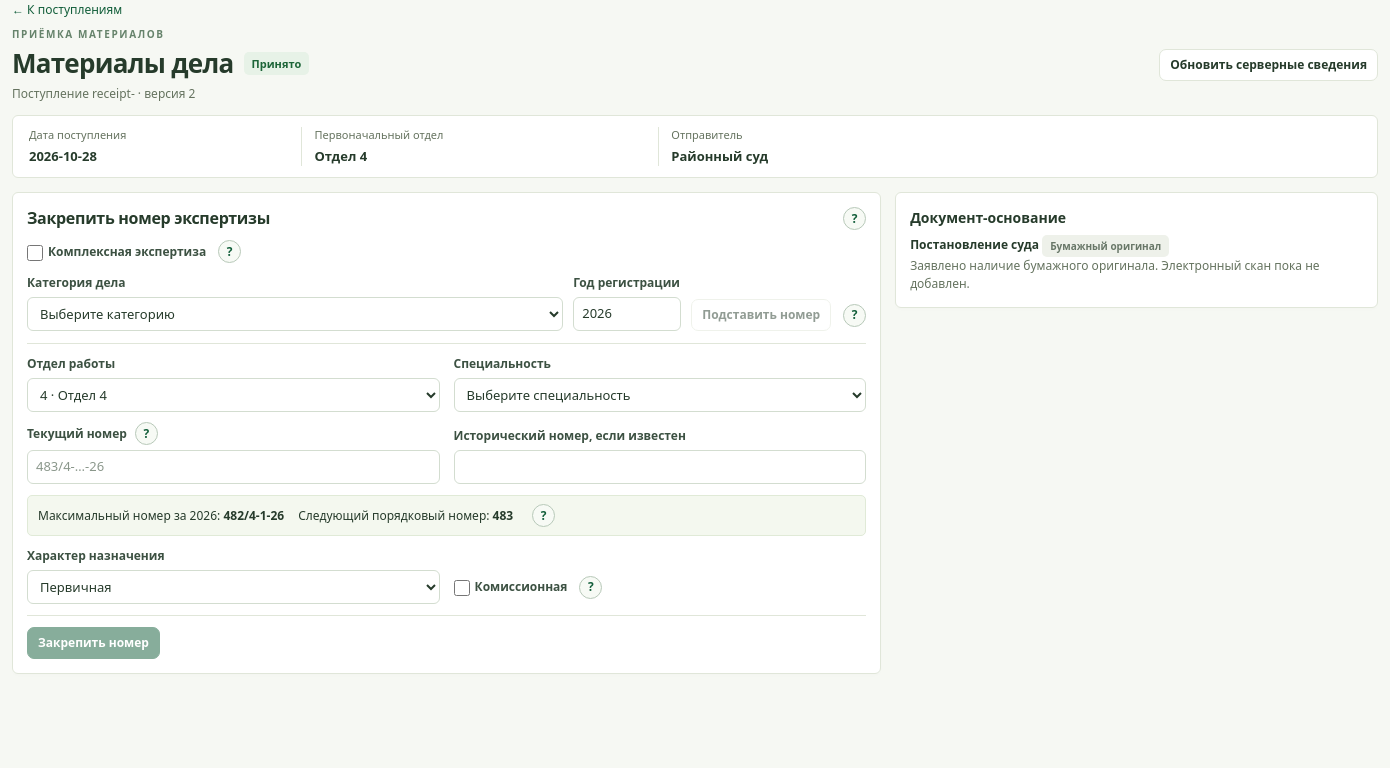
Scenario: out-of-sequence number confirmation › checks a fresh maximum instead of trusting the earlier hint
Select "18.1 · Исследование записи" in the dropdown named "specialty_id". click: (660, 395)
box: x1=454 y1=378 x2=866 y2=412
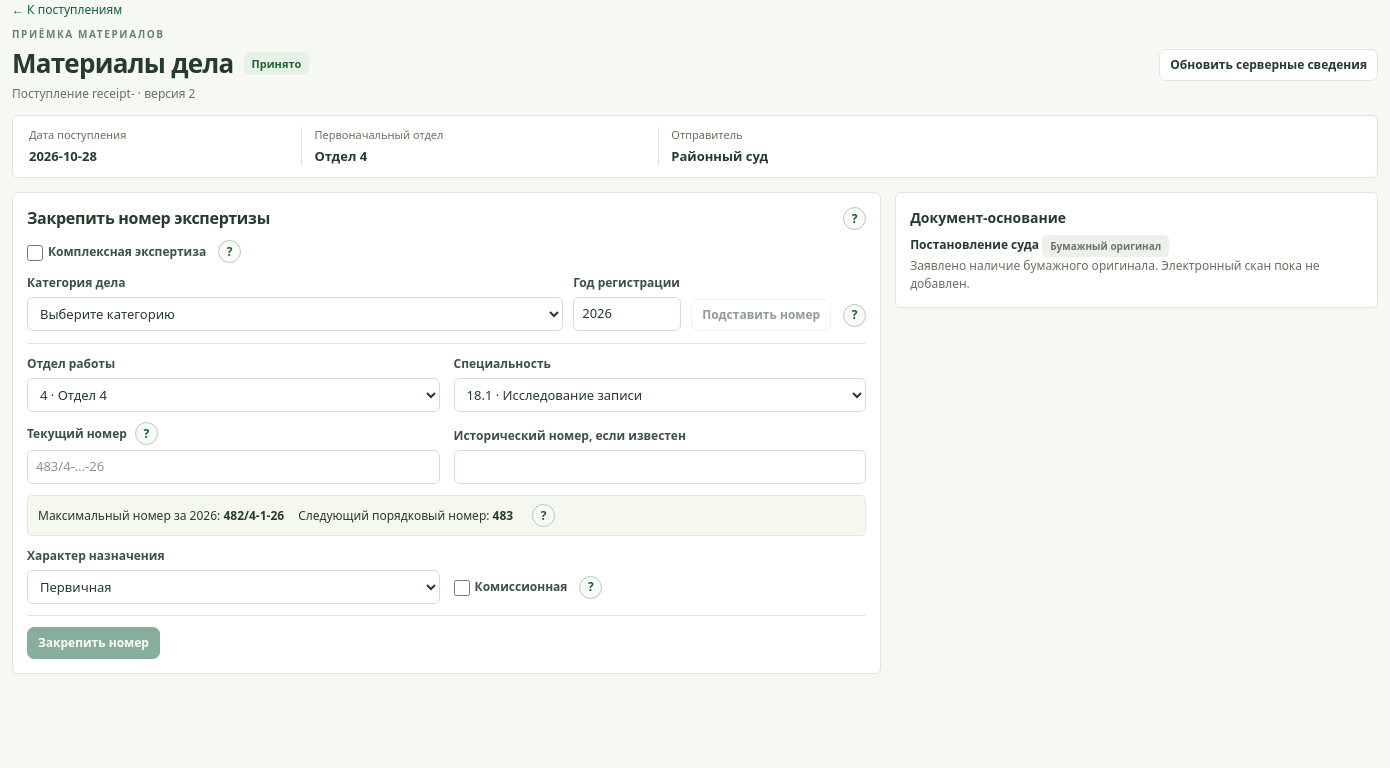
Type "483/4-1-26" into the field named "registration_number". click: (233, 467)
box: x1=27 y1=450 x2=440 y2=484
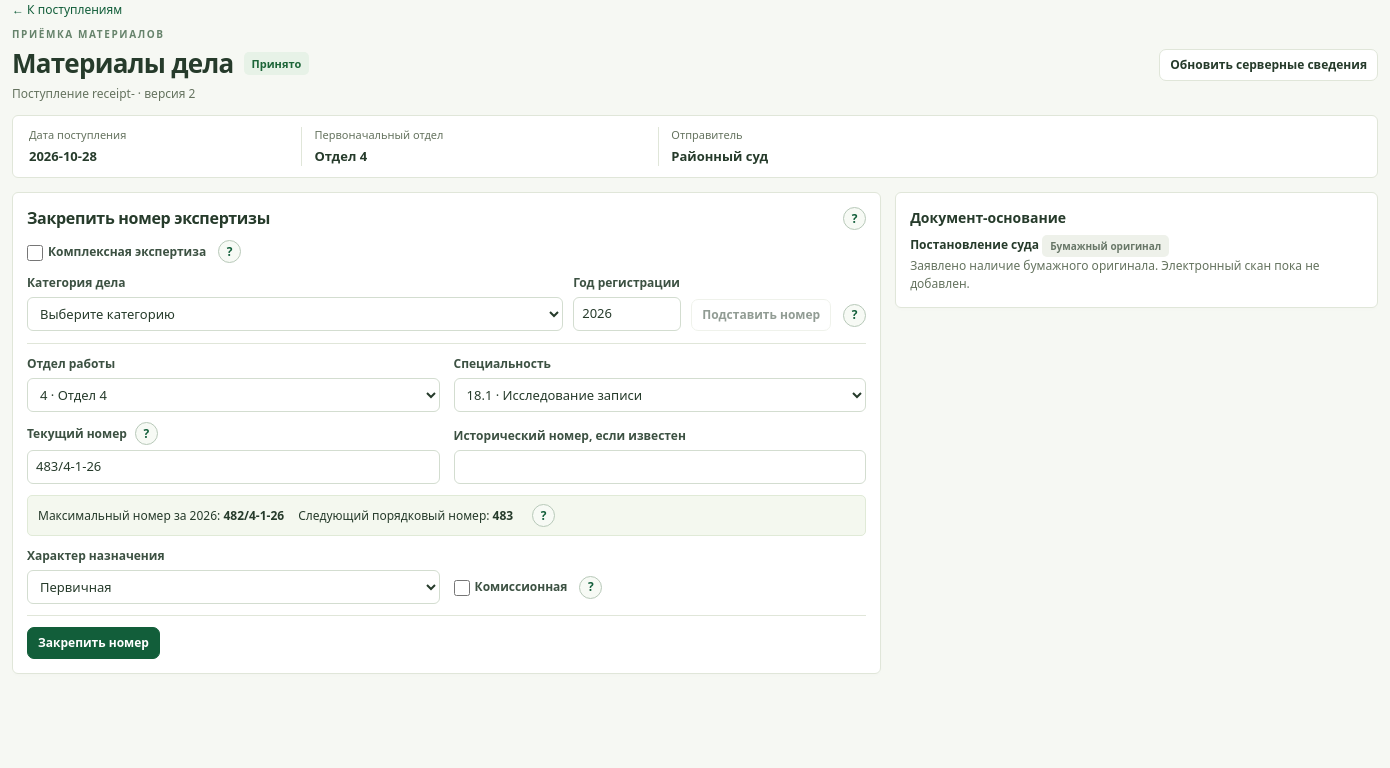
Submit the form, box x1=27 y1=240 x2=866 y2=659
(page scrolled)
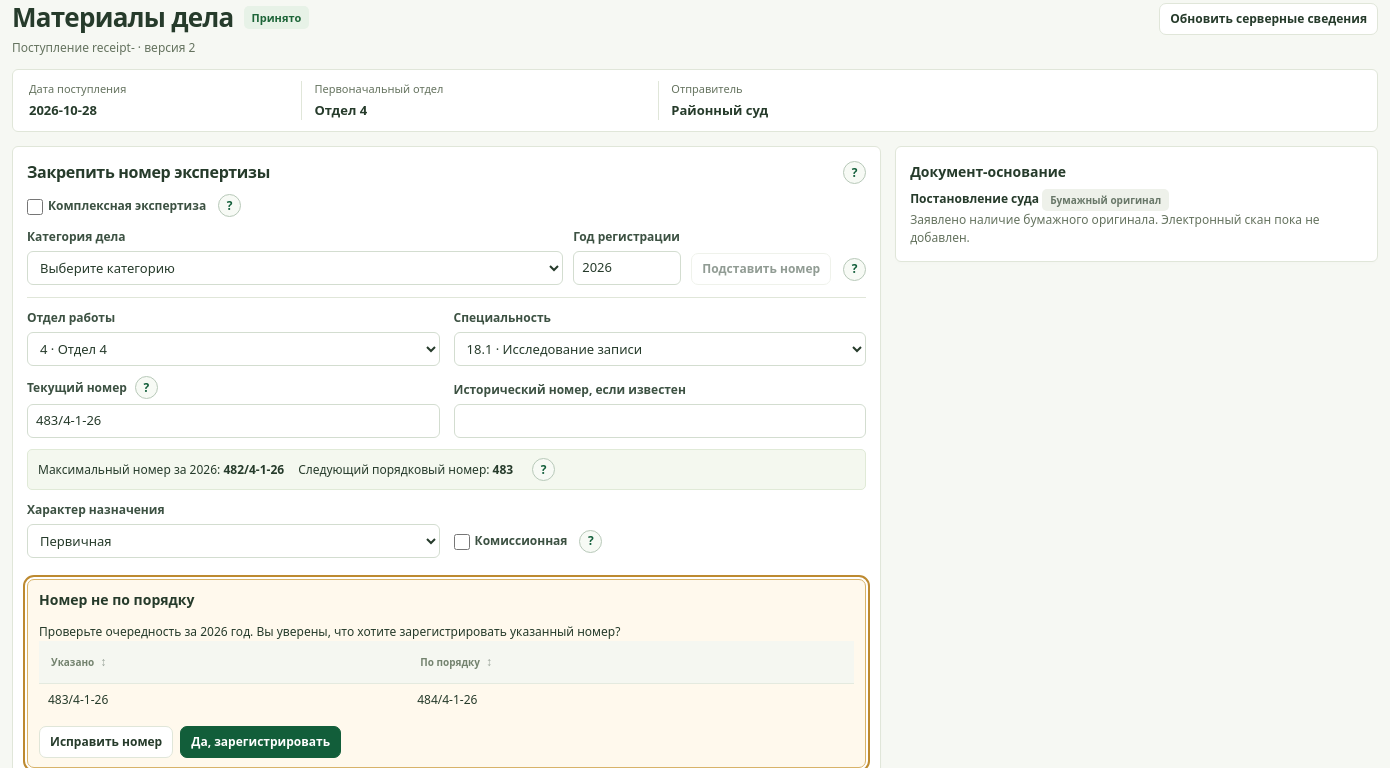
Expected: the message shows "484/4-1-26", x1=417 y1=691 x2=478 y2=708
